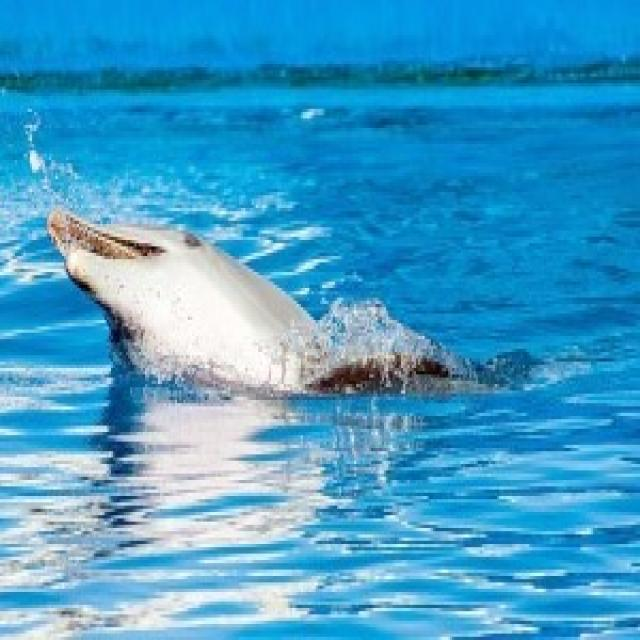Dolphin: (31, 190, 552, 453)
